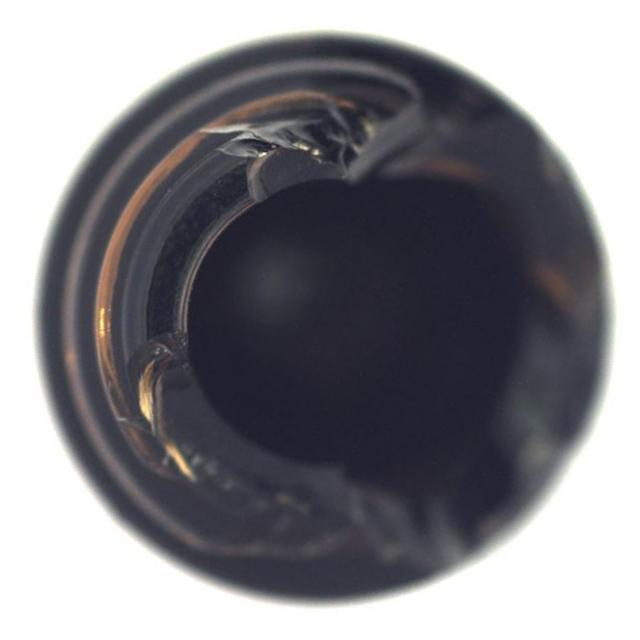bad-broken_large: (26, 31, 609, 611)
